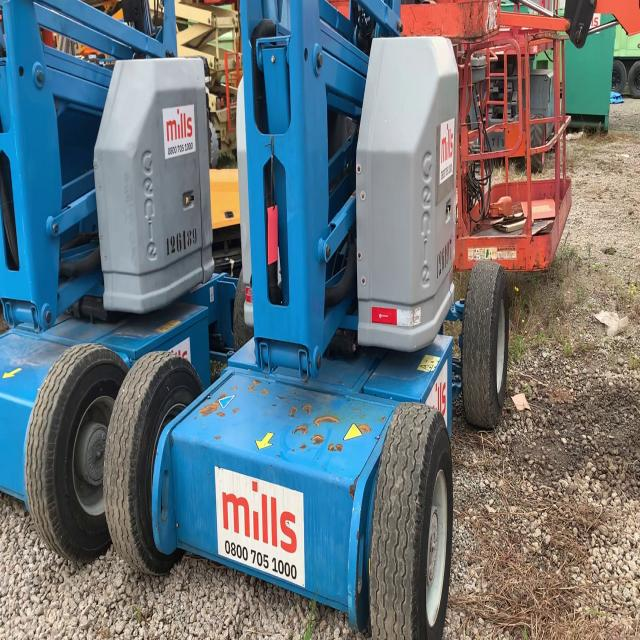Adesivos: (213, 463, 307, 591), (161, 103, 197, 162), (439, 115, 456, 188)
